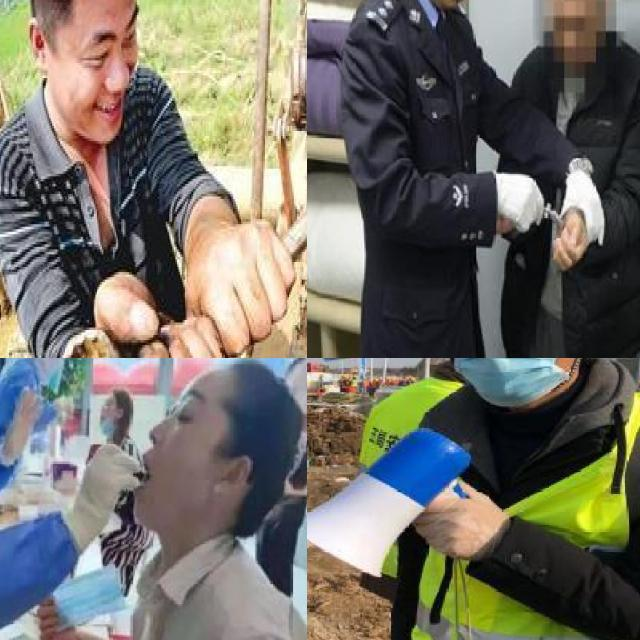No_Ear-Protection: (214, 454, 252, 502), (21, 15, 54, 68)
No_Glasses: (71, 13, 139, 71), (162, 384, 215, 446)
face_mask: (452, 358, 569, 406)
face_nomask: (132, 377, 226, 543), (71, 2, 145, 134)
hand_glove: (414, 480, 504, 565), (72, 440, 140, 531), (561, 175, 603, 248), (0, 386, 41, 460), (495, 170, 543, 232)
hand_noglove: (179, 220, 301, 353), (89, 277, 235, 358), (550, 217, 588, 272), (38, 594, 73, 640)
head_nohelmet: (208, 358, 304, 453)
person: (0, 0, 256, 358), (323, 358, 640, 640), (358, 0, 516, 358), (512, 0, 640, 358)
vest: (363, 375, 640, 640)
